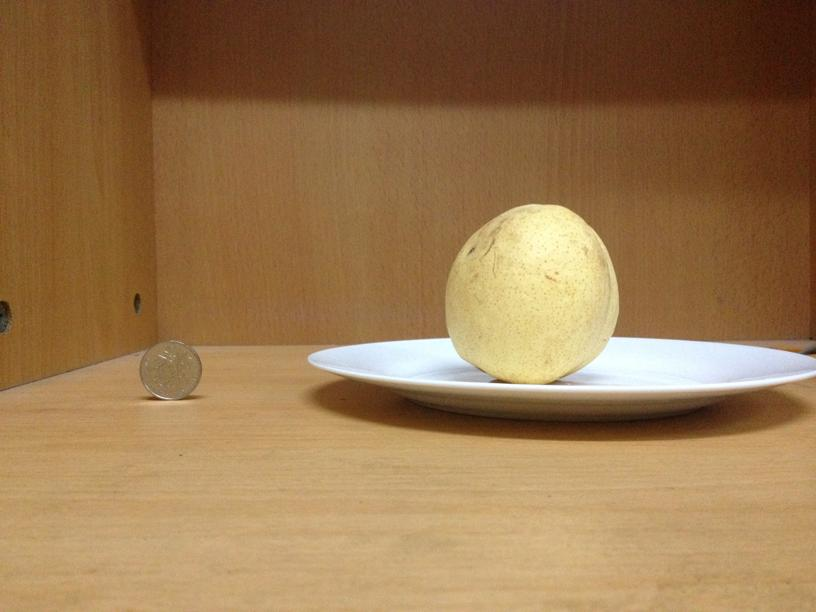coin: (136, 338, 203, 401)
pear: (444, 202, 619, 384)
